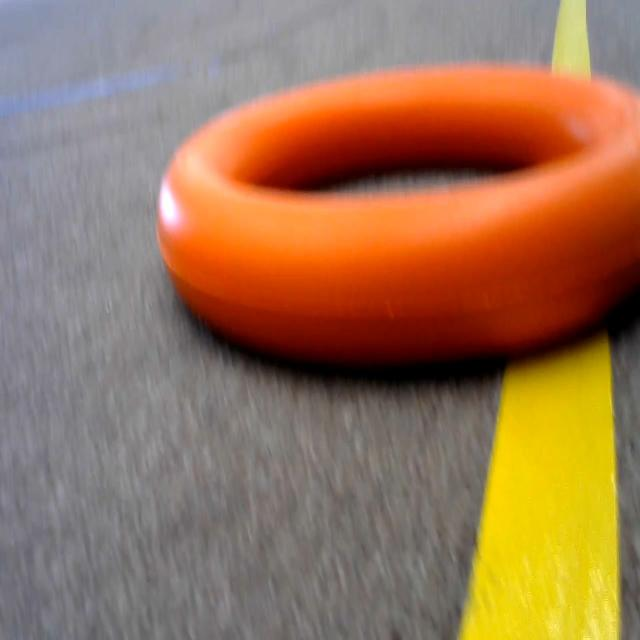note: (159, 50, 640, 371)
